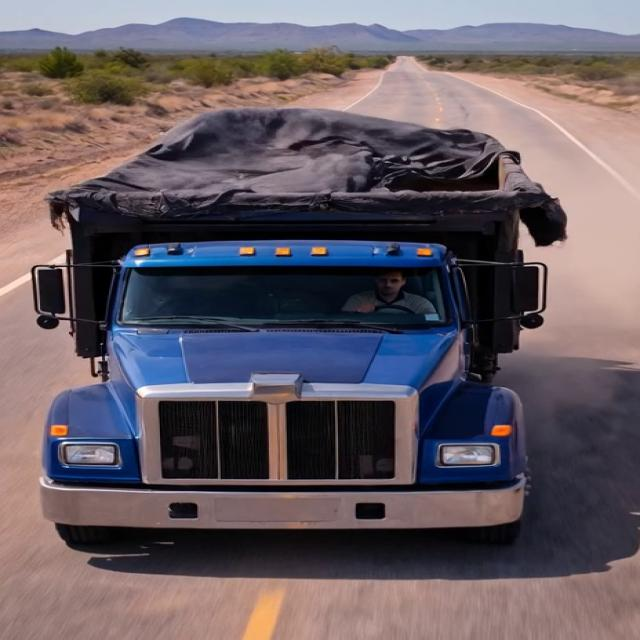trailer: (41, 99, 570, 214)
truck: (16, 55, 551, 551)
